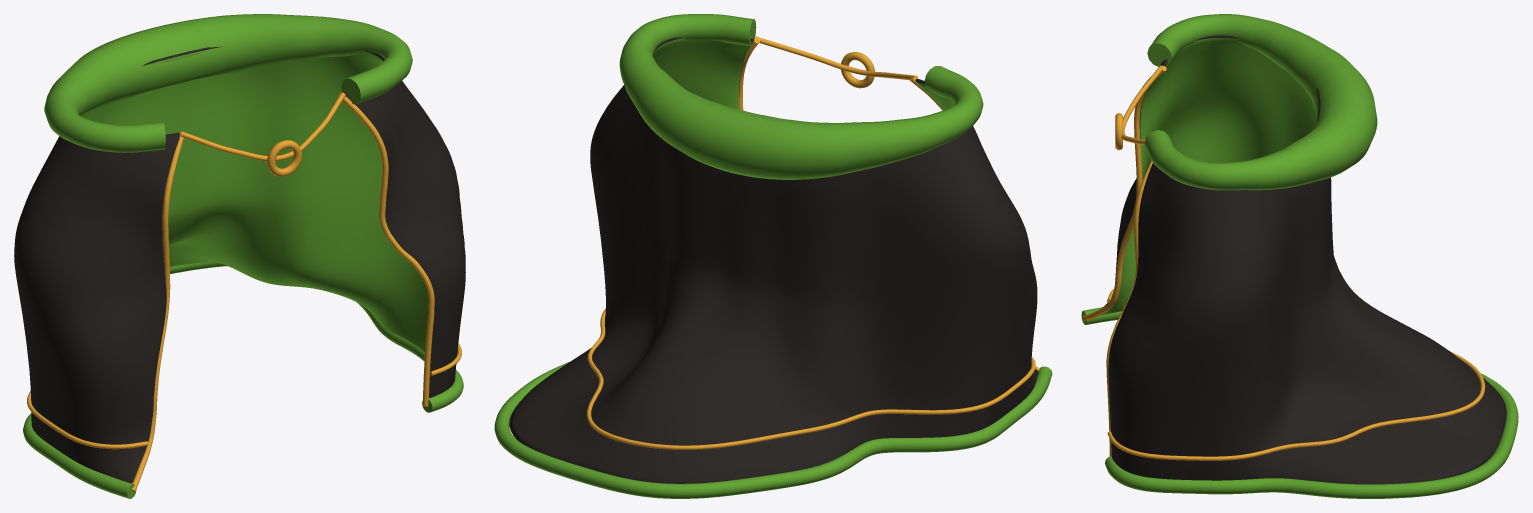
Rendered from capa.glb.
The picture shows the model from 3 angles, left to right: view 1: azimuth 30°, elevation 25°; view 2: azimuth 150°, elevation 25°; view 3: azimuth 270°, elevation 25°; orthographic projection. The views are drawn at different scales.
Parts seen in each view (by area): view 1: accesorio_capa; view 2: accesorio_capa; view 3: accesorio_capa.
Part boxes in pixels (bbox=[...]): accesorio_capa: bbox=[14, 14, 465, 498]; accesorio_capa: bbox=[494, 14, 1052, 498]; accesorio_capa: bbox=[1081, 14, 1518, 498].
Size of the model in its own units: 1.28 by 0.9468 by 1.19.
